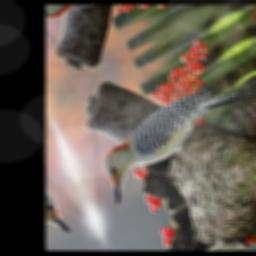Woodpecker: (89, 61, 256, 214)
